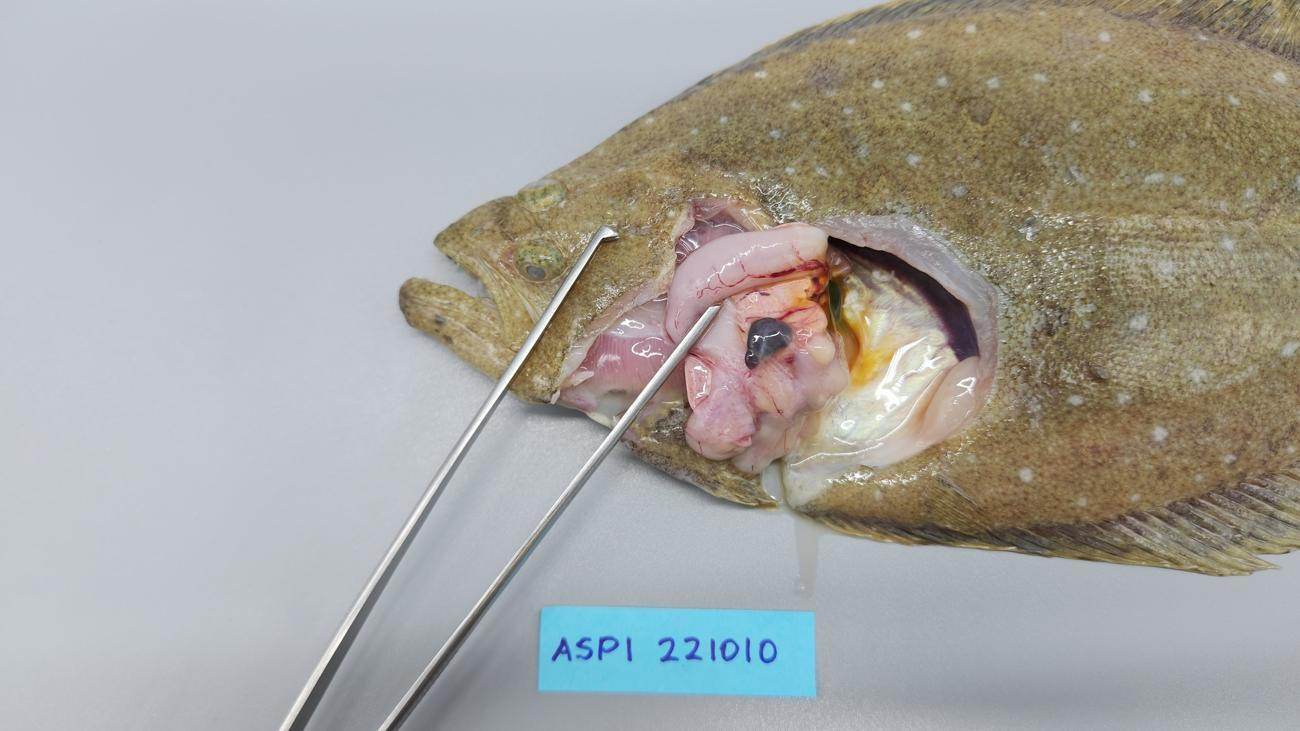SPINH: (781, 354, 800, 371)
SPINI: (733, 305, 847, 474)
